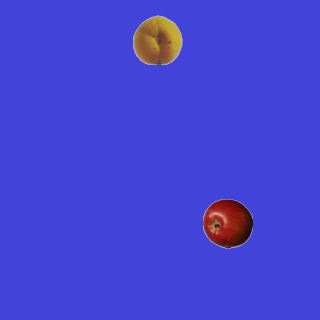Apple Braeburn: (202, 198, 252, 248)
Peach 2: (132, 14, 182, 64)
